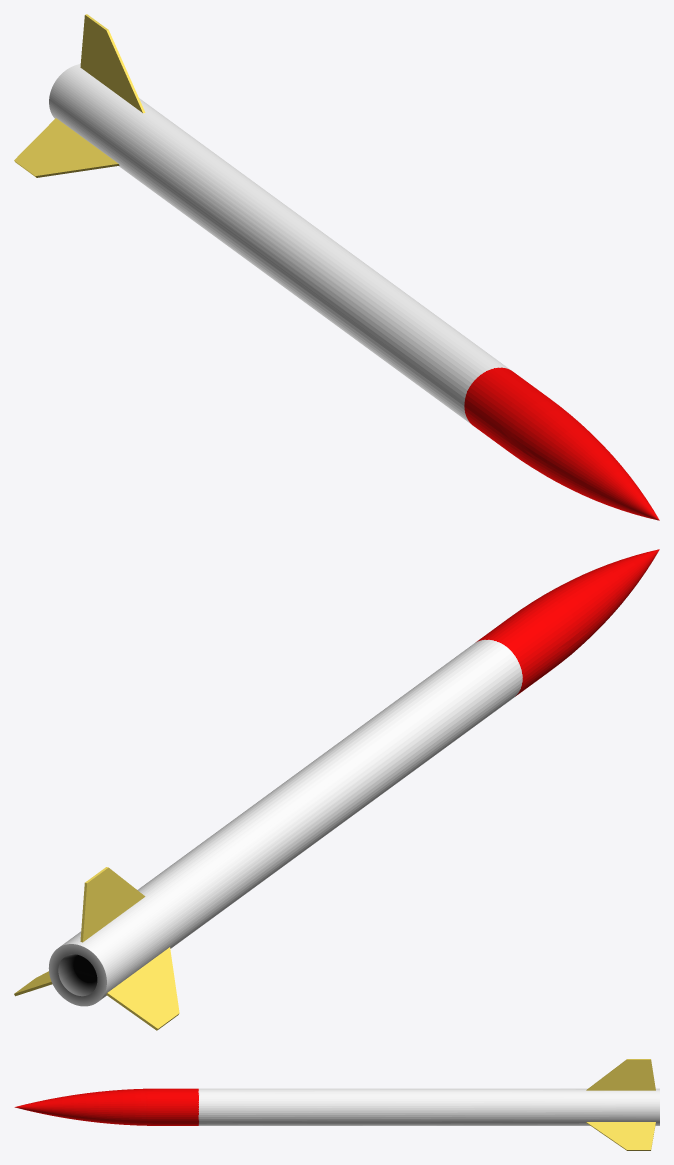
3 renders of one model, top to bottom at view 1: azimuth 30°, elevation 25°; view 2: azimuth 150°, elevation 25°; view 3: azimuth 270°, elevation 25°, orthographic. The views are drawn at different scales.
Visible parts, largest first — view 1: Assemblagc, Assemblag5, Assemblag5.003; view 2: Assemblagc, Assemblag5, Assemblag5.003; view 3: Assemblagc, Assemblag5.003, Assemblag5.002.
Boxes of the visible parts, x1=… form: Assemblagc: x1=49, y1=64, x2=659, y2=520; Assemblag5: x1=14, y1=118, x2=119, y2=177; Assemblag5.003: x1=80, y1=14, x2=145, y2=113; Assemblagc: x1=48, y1=549, x2=659, y2=1006; Assemblag5: x1=106, y1=947, x2=179, y2=1030; Assemblag5.003: x1=80, y1=867, x2=145, y2=942; Assemblagc: x1=14, y1=1088, x2=659, y2=1125; Assemblag5.003: x1=586, y1=1059, x2=655, y2=1090; Assemblag5.002: x1=586, y1=1122, x2=655, y2=1150.
Bounding box in the file's own units: 5.86 × 5.08 × 41.02.
Materials: 2 (2 with a texture image).
